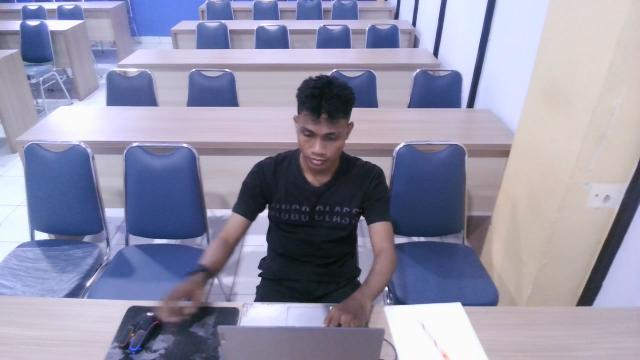Normal_Focus: (185, 62, 431, 360)
